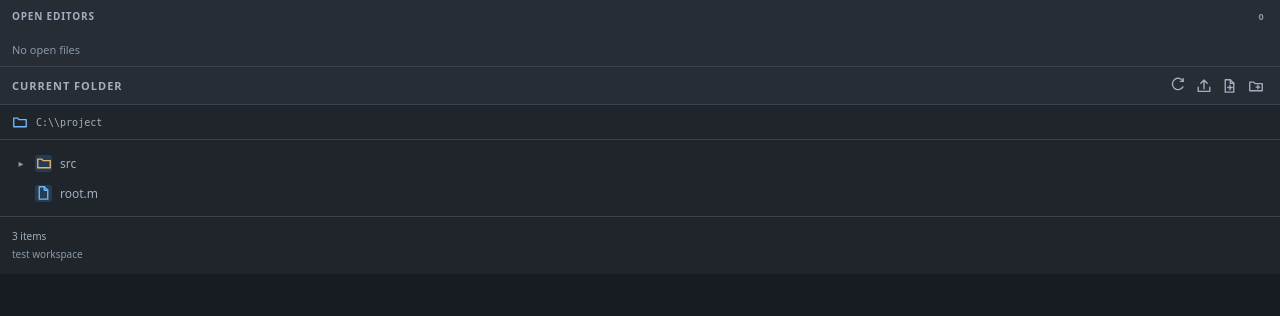
Test: CurrentFolderPane › copies the workspace-relative path from the context menu
Right-click the list item "root.m".
right_click(79, 193)  # box [8,178,1272,208]
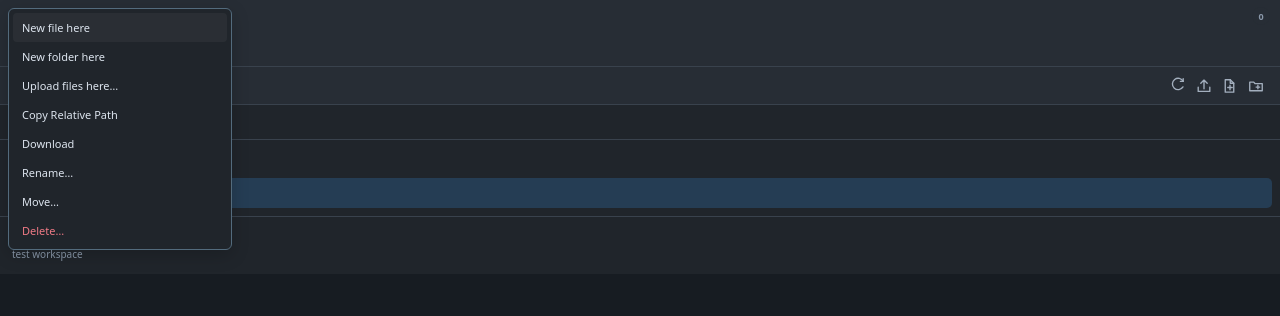
Click the menu item "Copy Relative Path".
click(120, 114)  # box [13,100,227,129]
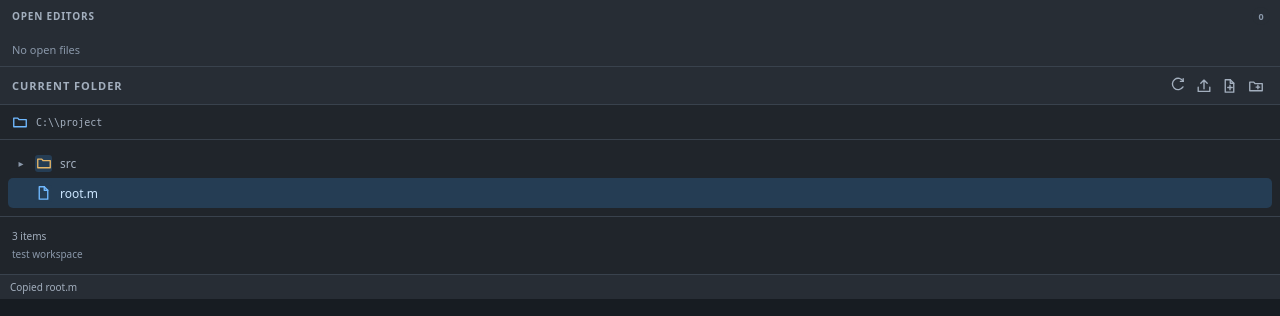
Result: the message reads "Copied root.m" at [10,280,77,294]
